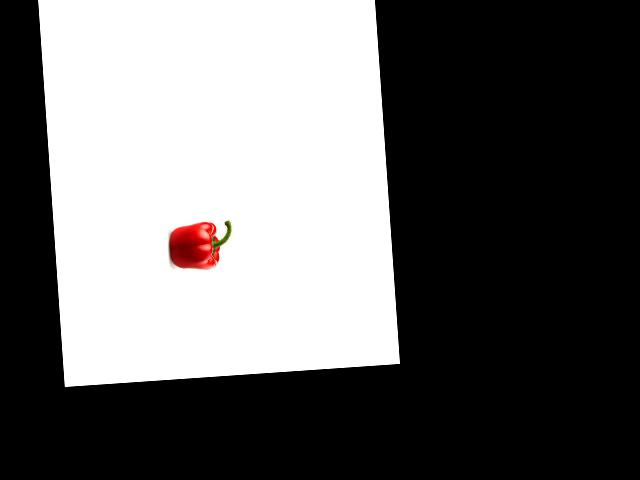bell_pepper: (167, 218, 234, 270)
